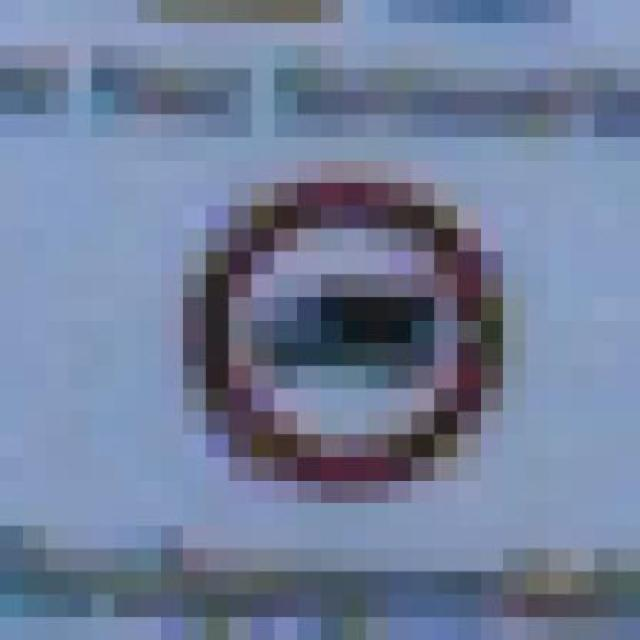Truck traffic is prohibited: (160, 160, 526, 503)
